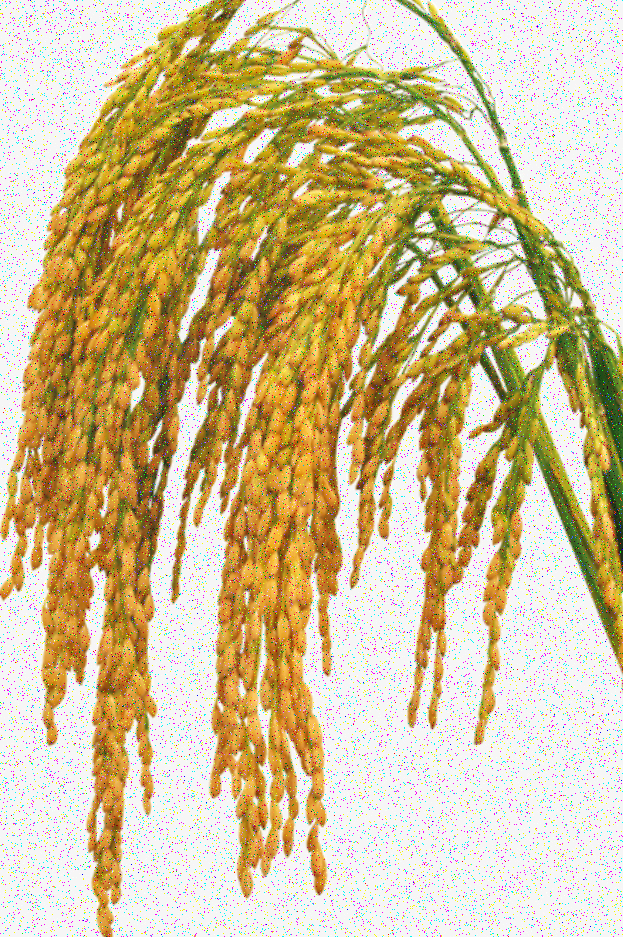rice: (5, 2, 494, 937)
